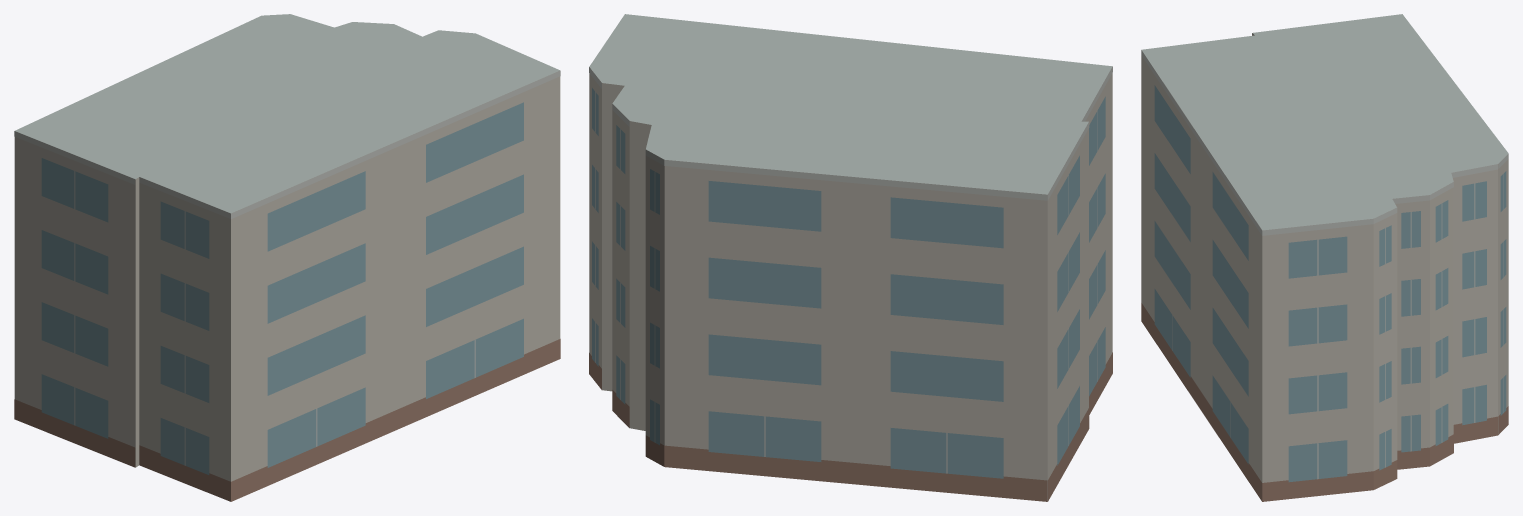
Rendered from survey-upis-32771998.glb.
The picture shows the model from 3 angles, left to right: view 1: azimuth 30°, elevation 25°; view 2: azimuth 150°, elevation 25°; view 3: azimuth 270°, elevation 25°; orthographic projection. The views are drawn at different scales.
Visible parts, largest first — view 1: survey-upis-32771998.tmp; view 2: survey-upis-32771998.tmp; view 3: survey-upis-32771998.tmp.
Part boxes in pixels (bbox=[...]): survey-upis-32771998.tmp: bbox=[14, 14, 560, 501]; survey-upis-32771998.tmp: bbox=[589, 14, 1112, 501]; survey-upis-32771998.tmp: bbox=[1141, 14, 1508, 501].
Size of the model in its own units: 20.88 by 12.2 by 14.97.
